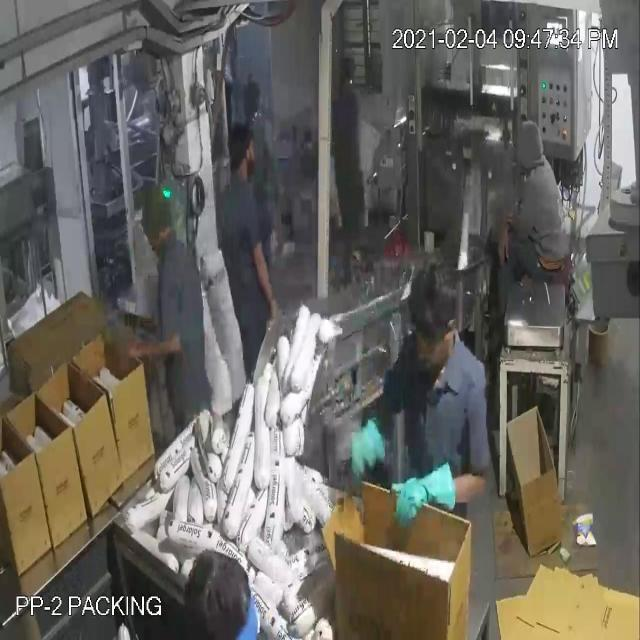No_Gloves: (28, 41, 504, 493)
